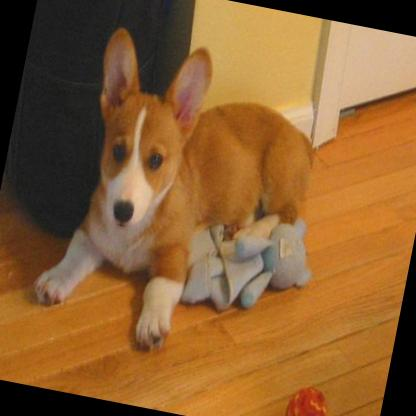Cardigan: (22, 16, 334, 370)
